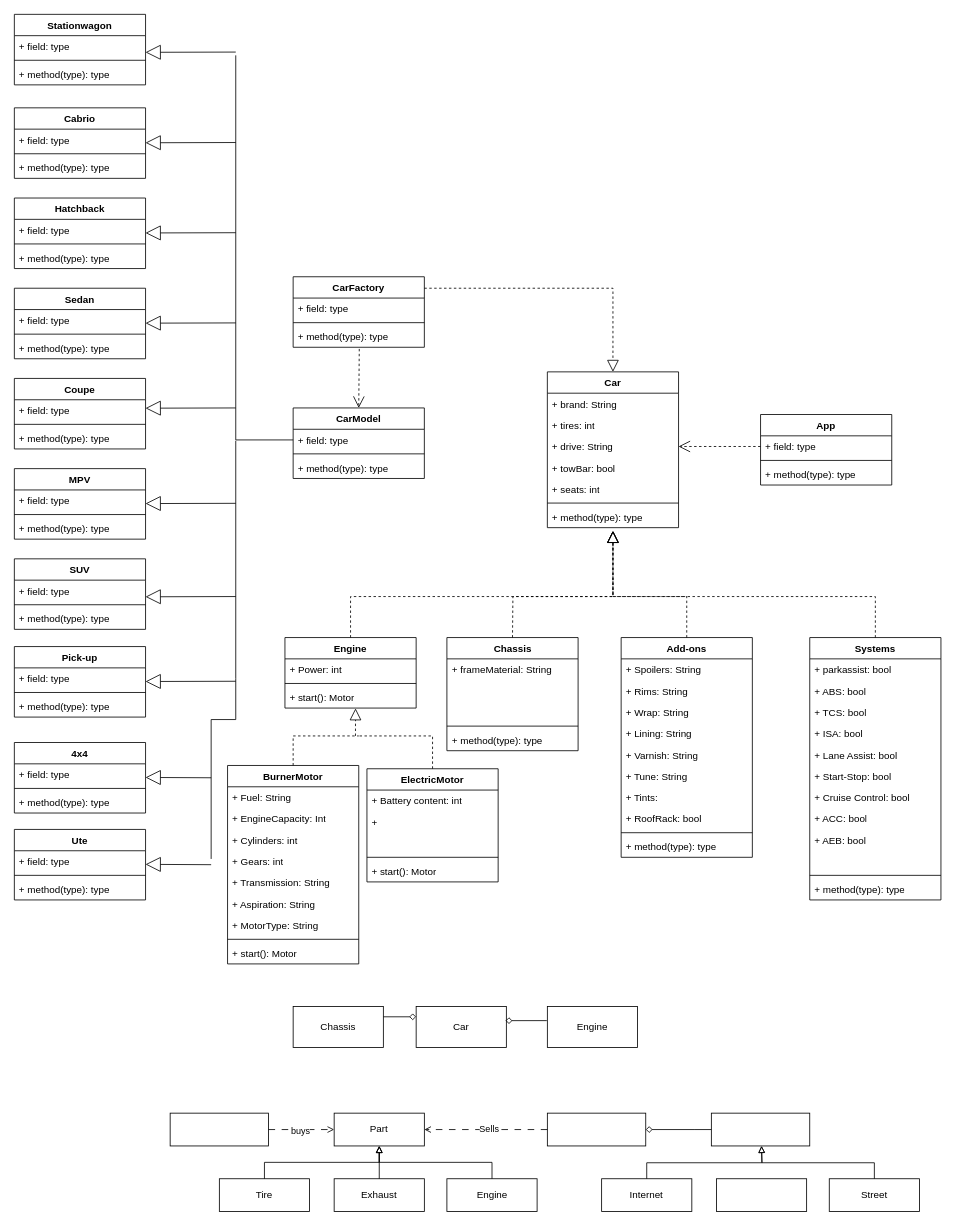
This 955x1226 diagram has some shape labels left out. Each missing label, with the centre of its shape:
"Client" goes at point (219, 1129).
"SellStrategy" goes at point (760, 1129).
"Shop" goes at point (761, 1195).
"Trader +SellPart() +s:SellStrategy" goes at point (596, 1129).
